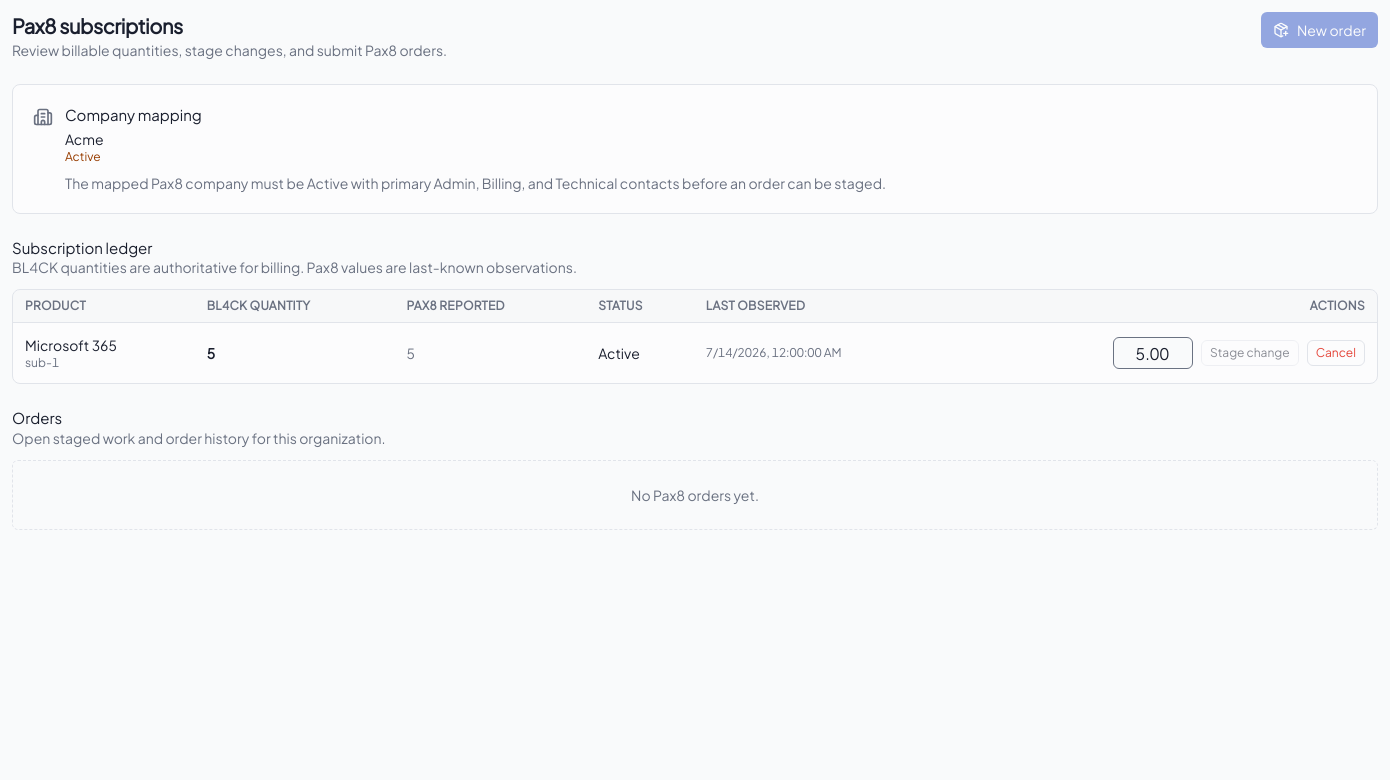
it: Pax8 organization mapping state › blocks a quantity increase when the active commitment forbids it
The image size is (1390, 780).
Replace the text in the number field named "target quantity" with "6" at coordinates (1153, 353), box x1=1113 y1=337 x2=1193 y2=369
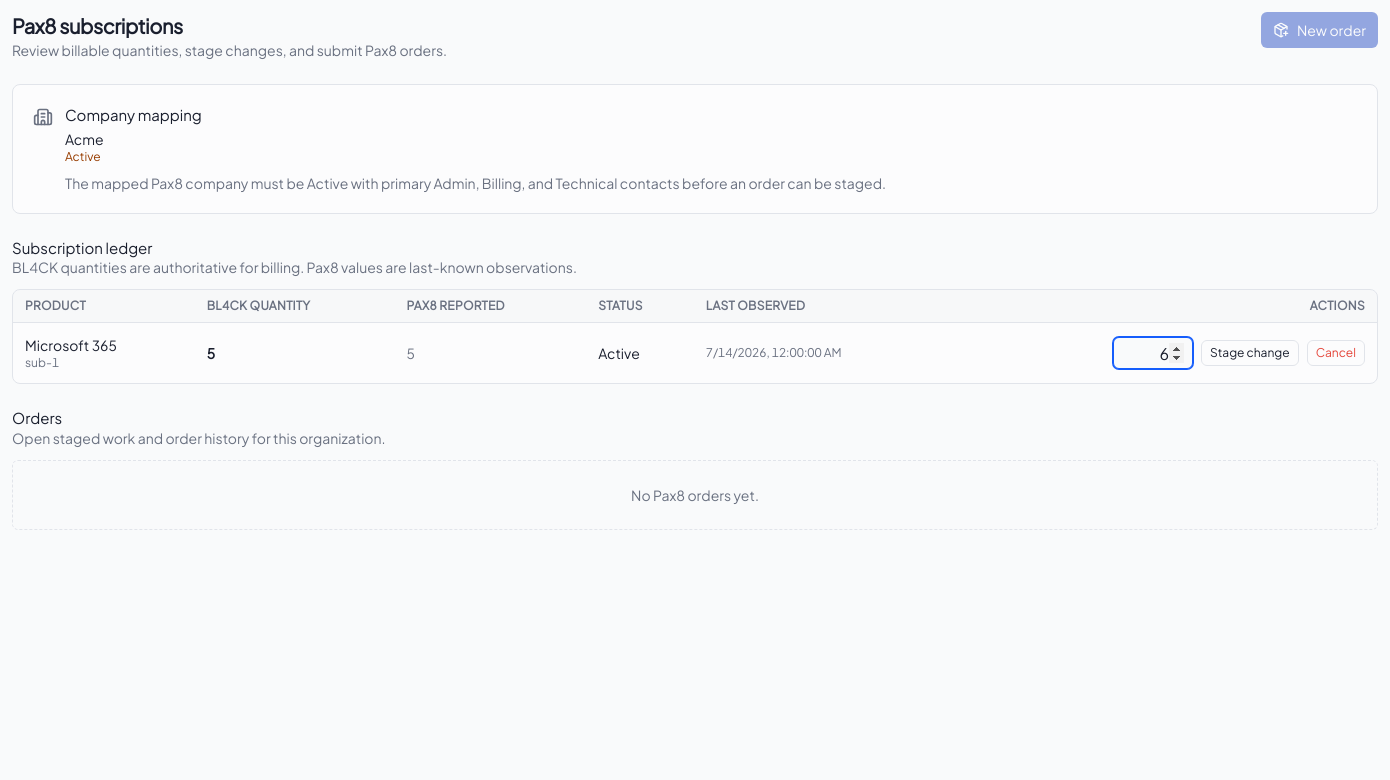
Click the button "Stage change" at coordinates (1250, 353), box x1=1201 y1=340 x2=1299 y2=366
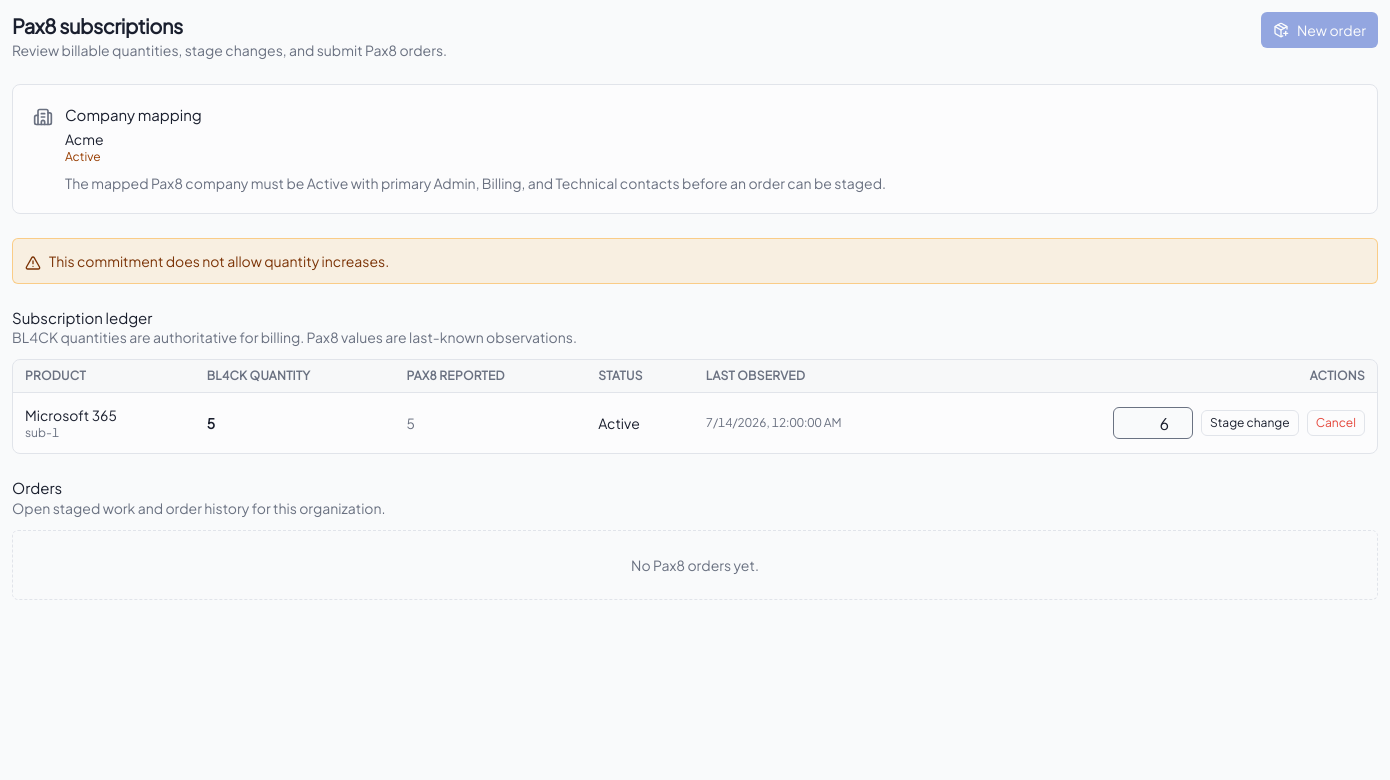
Expected: the message shows "does not allow quantity increases", x1=49 y1=252 x2=389 y2=270
